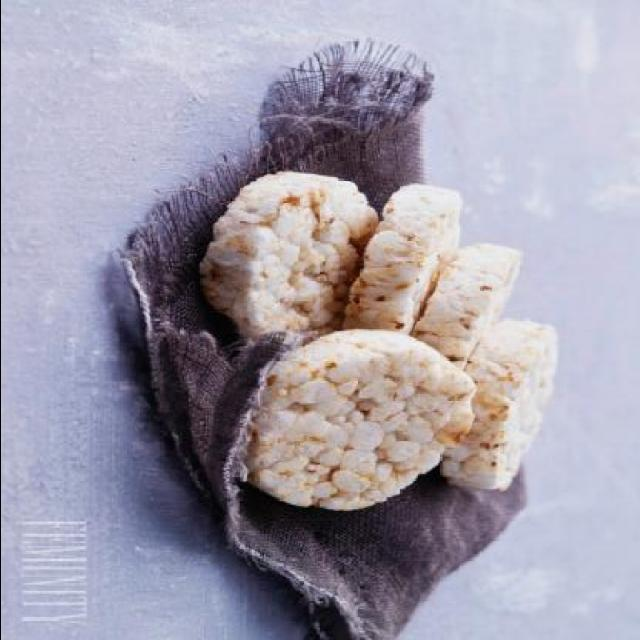Gallette di riso packaged: (200, 168, 562, 516)
